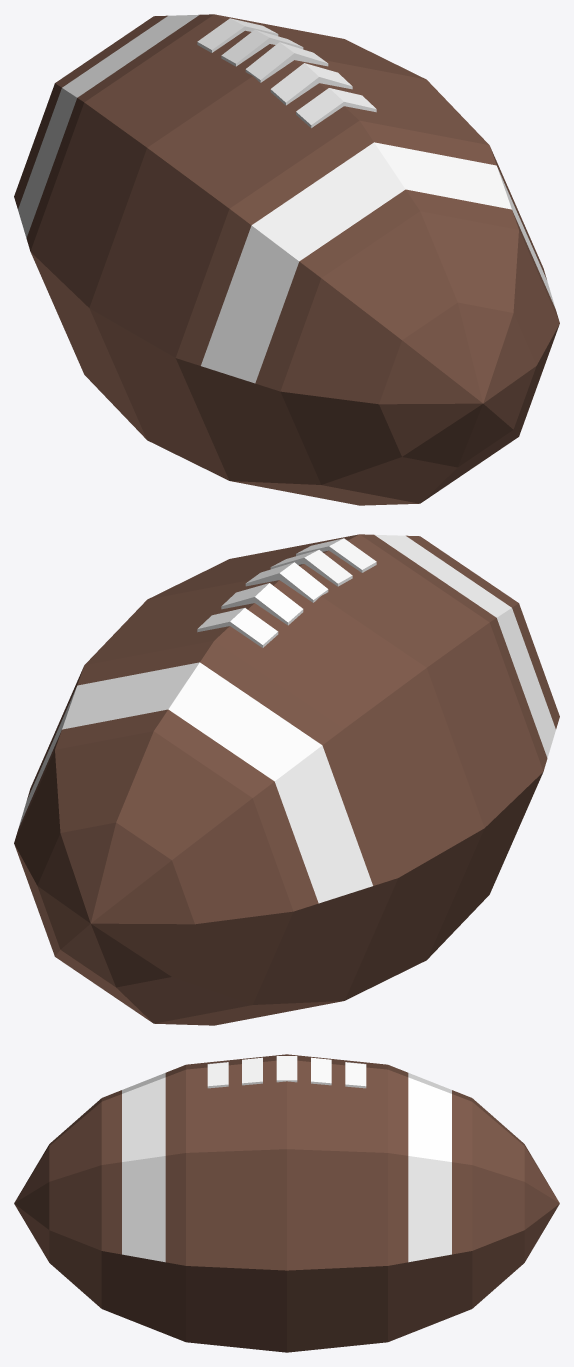
The model's file is Football.glb.
3 renders of one model, top to bottom at view 1: azimuth 30°, elevation 25°; view 2: azimuth 150°, elevation 25°; view 3: azimuth 270°, elevation 25°, orthographic. The views are drawn at different scales.
Parts seen in each view (by area): view 1: Football_Sphere.002; view 2: Football_Sphere.002; view 3: Football_Sphere.002.
Part boxes in pixels (x1,y1,x2,y2): Football_Sphere.002: (14,14,559,505); Football_Sphere.002: (14,534,559,1025); Football_Sphere.002: (14,1054,559,1352).
Bounding box in the file's own units: 9.59 × 9.72 × 16.5.
